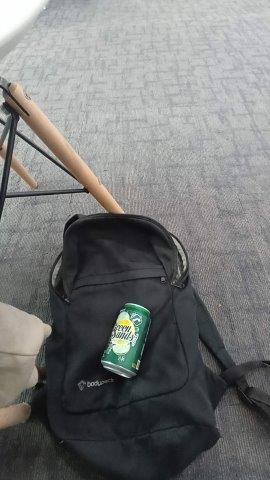kaleng: (101, 303, 152, 379)
